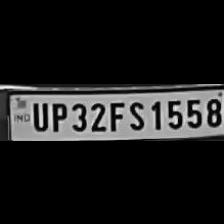1: (147, 96, 163, 130)
2: (88, 99, 106, 131)
3: (69, 99, 87, 131)
5: (162, 96, 182, 128), (184, 94, 202, 128)
8: (202, 95, 222, 127)
F: (107, 97, 125, 130)
P: (48, 98, 68, 132)
S: (126, 98, 146, 130)
U: (28, 99, 48, 131)
